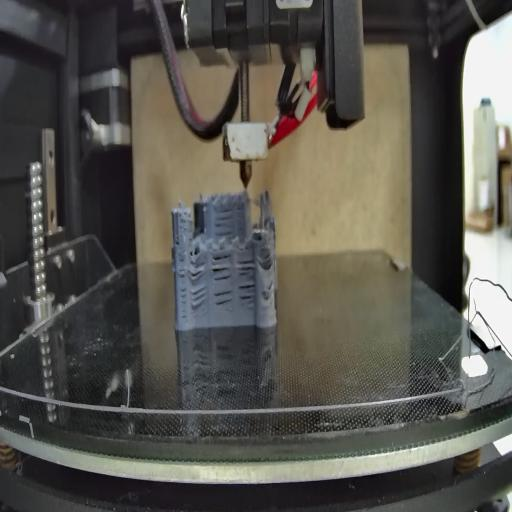cracks: (238, 259, 256, 307), (209, 252, 233, 280), (211, 285, 234, 314), (178, 257, 188, 320), (215, 204, 233, 236), (189, 254, 206, 282), (191, 288, 208, 310), (259, 250, 276, 269), (265, 279, 274, 292), (175, 233, 183, 247)
